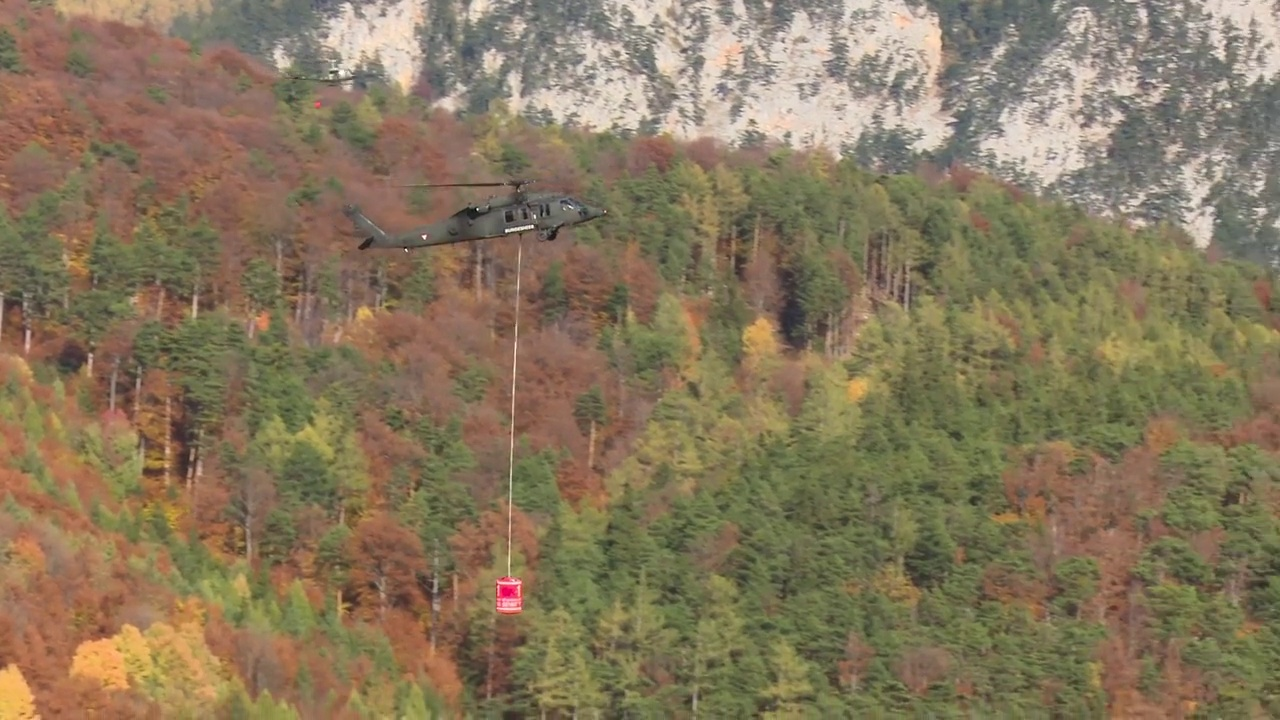heli: (346, 177, 610, 254), (284, 55, 359, 88)
